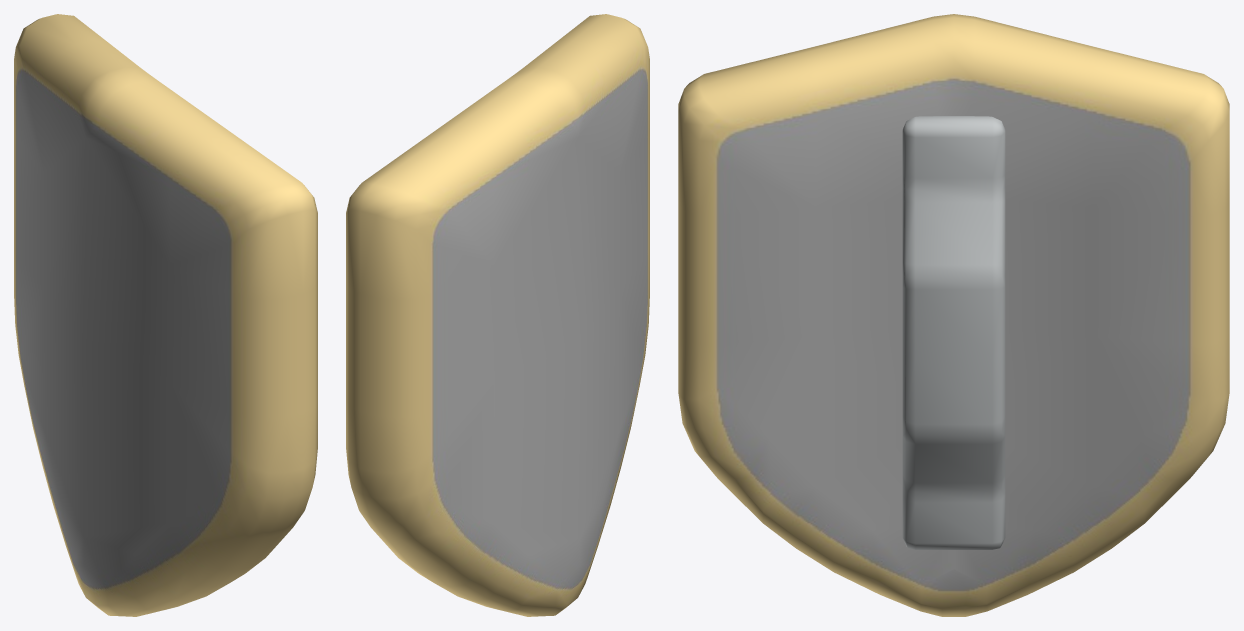
File: Shield-object.glb
The picture shows the model from 3 angles, left to right: view 1: azimuth 30°, elevation 25°; view 2: azimuth 150°, elevation 25°; view 3: azimuth 270°, elevation 25°; orthographic projection. The views are drawn at different scales.
Parts seen in each view (by area): view 1: defaultMaterial.003; view 2: defaultMaterial.003; view 3: defaultMaterial.003.
Boxes of the visible parts, x1,y1,x2,y2 form: defaultMaterial.003: [14, 14, 317, 616]; defaultMaterial.003: [346, 14, 649, 616]; defaultMaterial.003: [678, 14, 1229, 616].
Bounding box in the file's own units: 10.33 × 39.65 × 33.75.
Materials: 1 (1 with a texture image).
